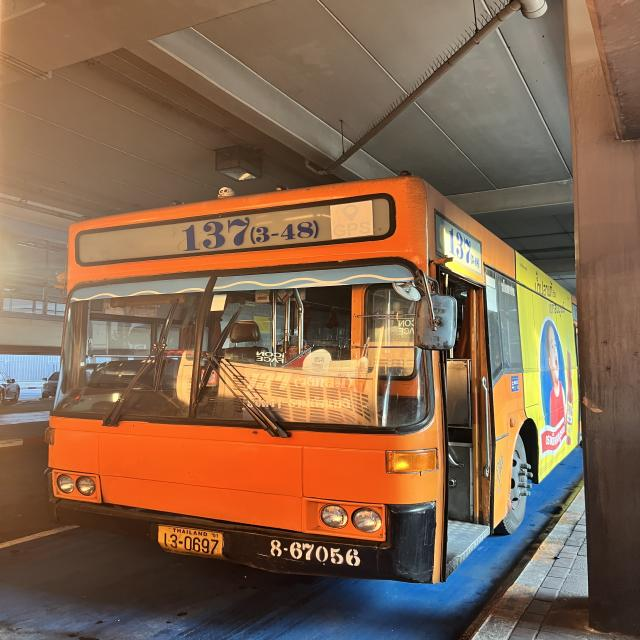BMTA-bus: (44, 176, 582, 586)
Bus-Line-Number: (178, 214, 320, 254)
Destination-Sign-Normal: (241, 368, 381, 426)
